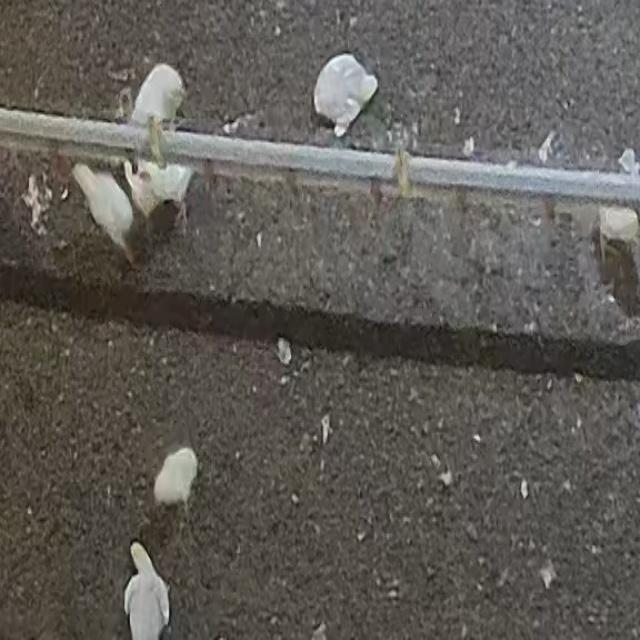chicken: (68, 159, 132, 258), (120, 539, 177, 640), (598, 145, 640, 261), (129, 158, 192, 231), (318, 51, 373, 132), (149, 442, 199, 509), (133, 62, 187, 123)
